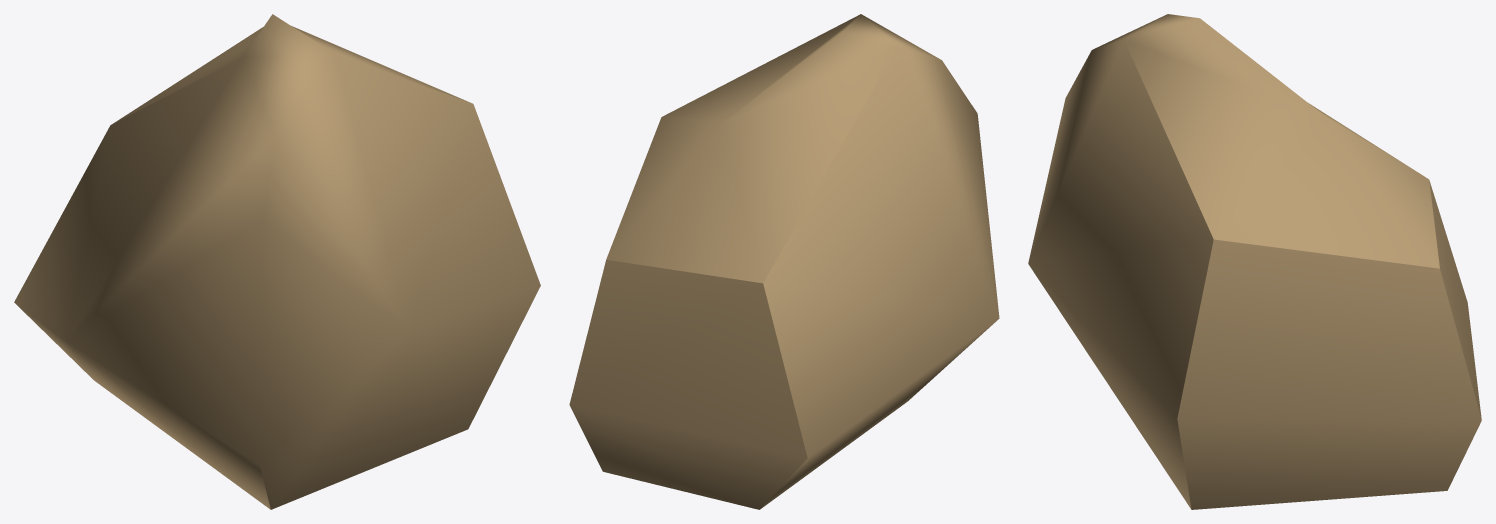
Rendered from StoneB.fbx.
3 renders of one model, left to right at view 1: azimuth 30°, elevation 25°; view 2: azimuth 150°, elevation 25°; view 3: azimuth 270°, elevation 25°, orthographic. The views are drawn at different scales.
Visible parts, largest first — view 1: StoneB; view 2: StoneB; view 3: StoneB.
Boxes of the visible parts, x1,y1,x2,y2 form: StoneB: (14,14,540,509); StoneB: (569,14,999,509); StoneB: (1028,14,1481,509).
Bounding box in the file's own units: 1.48 × 1.43 × 1.44.
